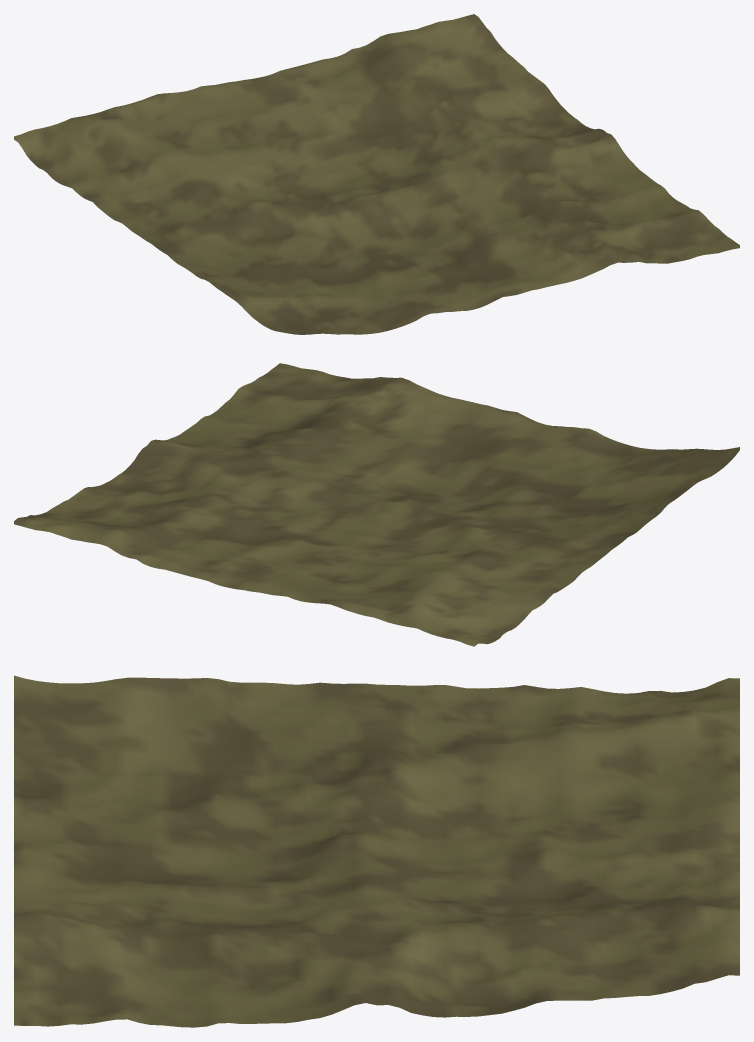
Rendered from land_f_00_02.glb.
3 views of the same model, one above another, from view 1: azimuth 30°, elevation 25°; view 2: azimuth 150°, elevation 25°; view 3: azimuth 270°, elevation 25° (orthographic). The views are drawn at different scales.
Visible parts, largest first — view 1: land_f_00_02; view 2: land_f_00_02; view 3: land_f_00_02.
Boxes of the visible parts, x1,y1,x2,y2 form: land_f_00_02: [14, 14, 739, 334]; land_f_00_02: [14, 363, 739, 646]; land_f_00_02: [14, 675, 739, 1027].
Size of the model in its own units: 3840 by 347 by 3840.
